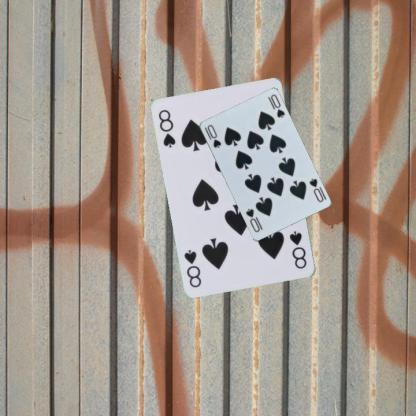10s: (201, 122, 222, 149), (306, 176, 325, 203)
8s: (286, 229, 308, 270), (156, 107, 177, 149)
